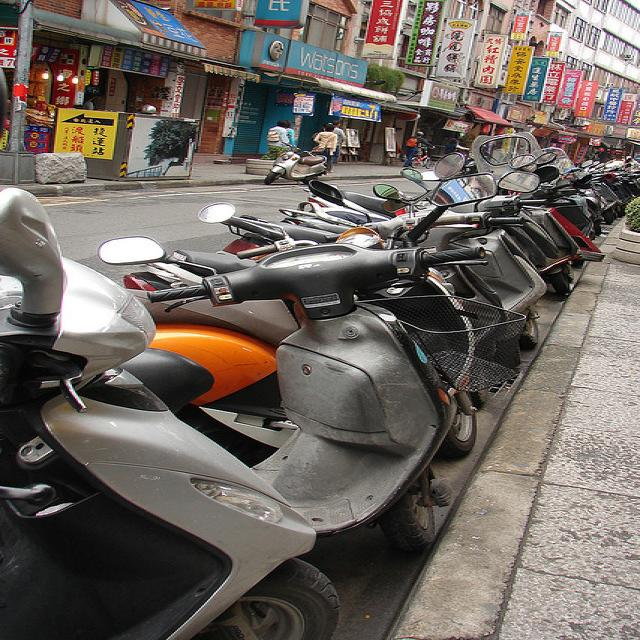motor: (0, 134, 550, 627), (307, 172, 578, 297), (216, 213, 546, 312), (153, 300, 296, 419), (276, 174, 483, 233), (182, 201, 392, 255), (522, 201, 607, 261), (531, 176, 607, 242), (557, 167, 602, 237), (264, 141, 329, 185), (584, 161, 631, 216), (592, 180, 620, 225), (612, 165, 640, 197)
